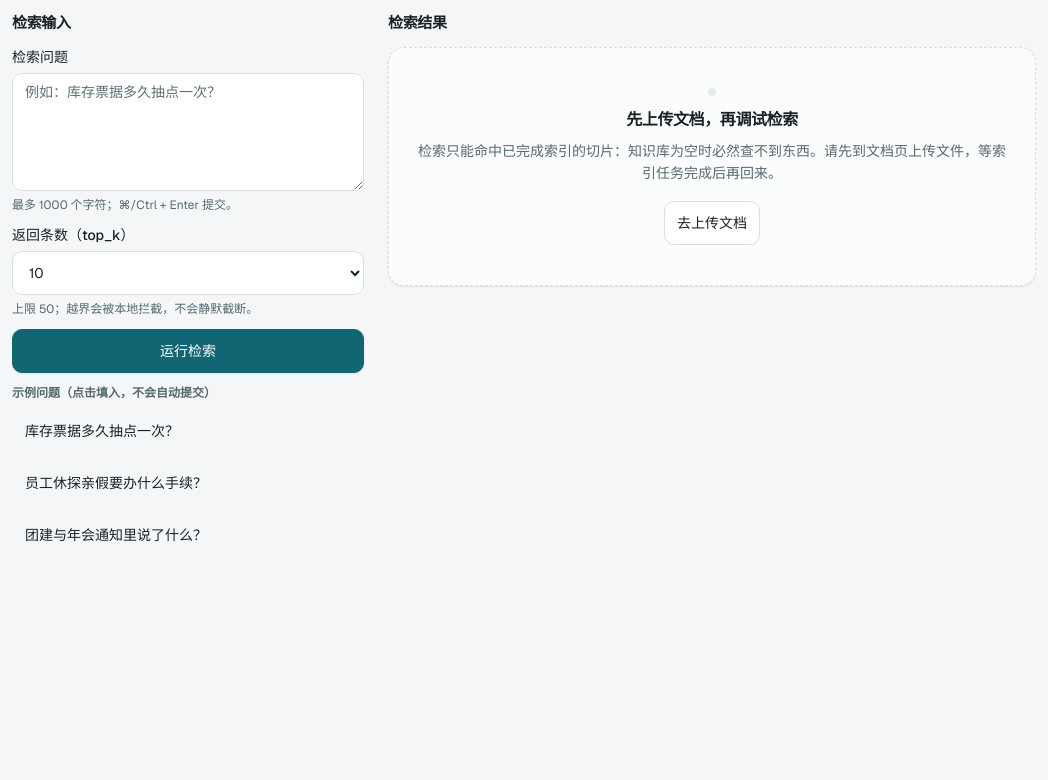
it: features/query/QueryConsole › degraded 非空时用 role=status 明确提示降级，逐键列出通道与原因
The image size is (1048, 780).
Step 1. Type "检索是怎么实现的？" into the text box labelled "检索问题" → (188, 132), box x1=12 y1=72 x2=364 y2=190
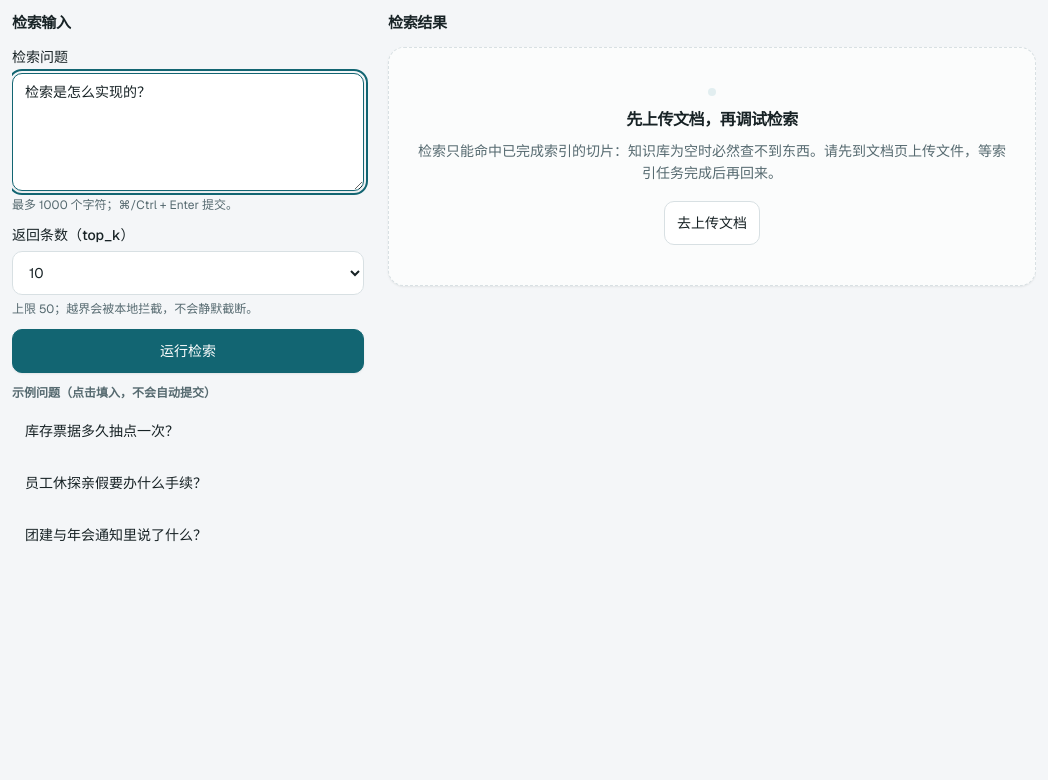
Step 2. Click the button "运行检索" → (188, 350), box x1=12 y1=328 x2=364 y2=372
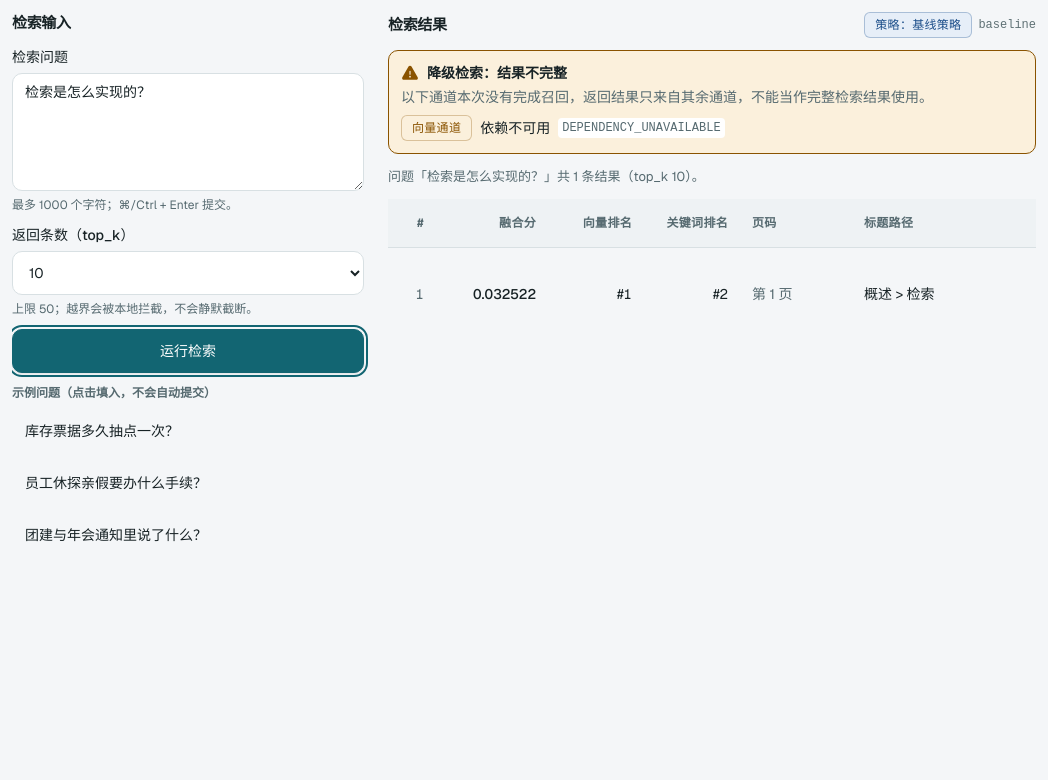
Expected: the text "降级检索：结果不完整" is shown, x1=401 y1=64 x2=567 y2=82
Expected: the text "向量通道" is shown, x1=401 y1=115 x2=472 y2=141
Expected: the text "依赖不可用" is shown, x1=480 y1=118 x2=550 y2=138
